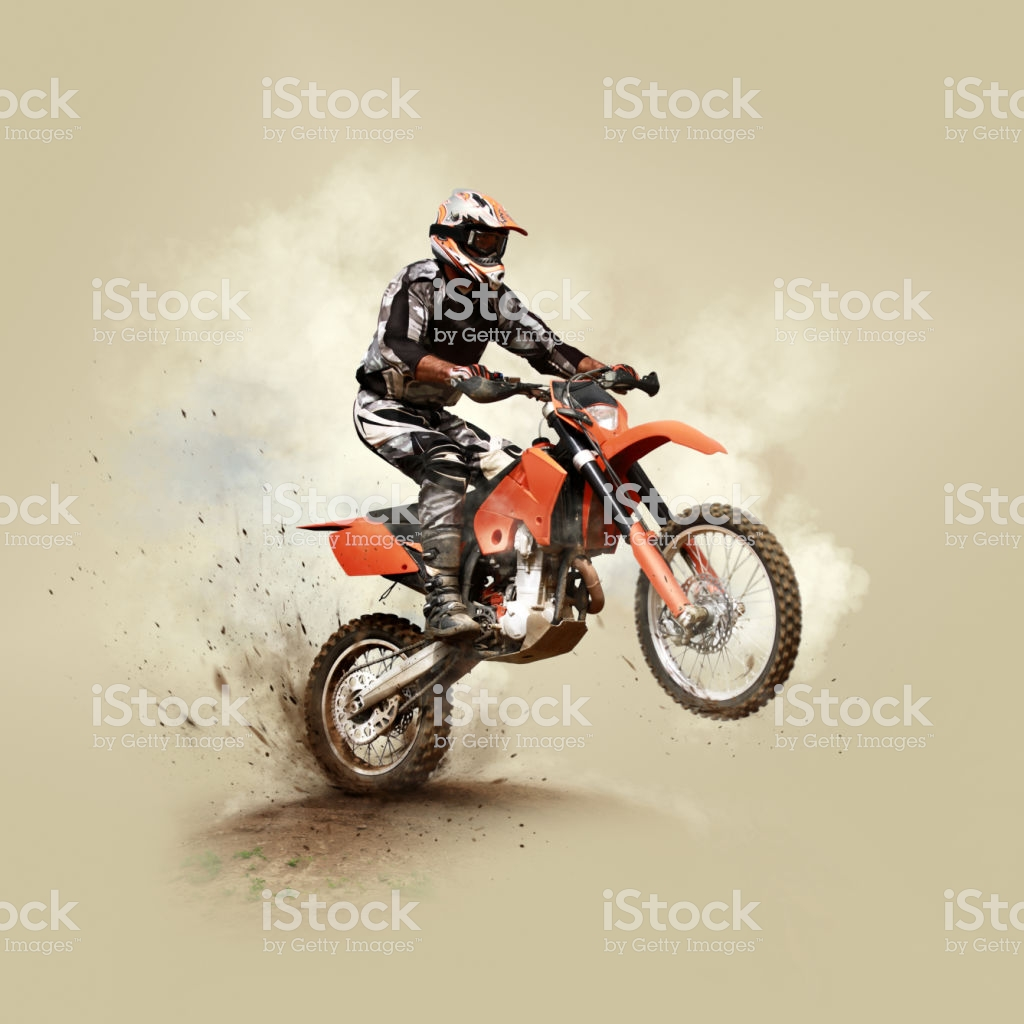helmet: (429, 181, 515, 304)
